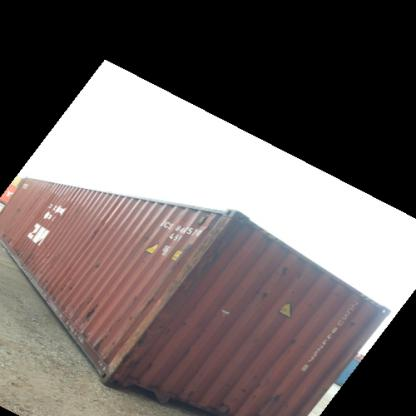Damage: (174, 214, 243, 287), (121, 321, 167, 377), (0, 229, 44, 271), (238, 374, 294, 405), (90, 328, 118, 370), (276, 261, 307, 285), (179, 331, 205, 358), (80, 299, 100, 321), (90, 216, 110, 236), (251, 280, 269, 301), (62, 274, 79, 296), (143, 289, 159, 311), (288, 328, 302, 351), (91, 257, 107, 275), (341, 318, 361, 331), (182, 383, 198, 399), (175, 316, 191, 328), (12, 205, 23, 214)
